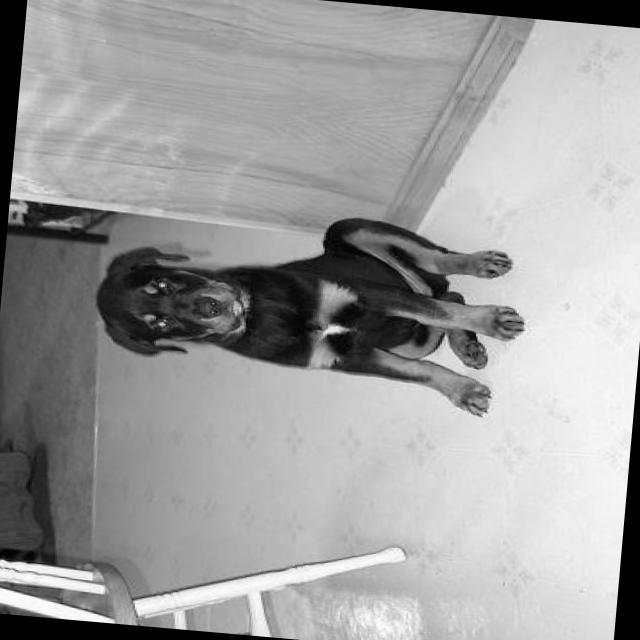sitting: (82, 189, 536, 426)
